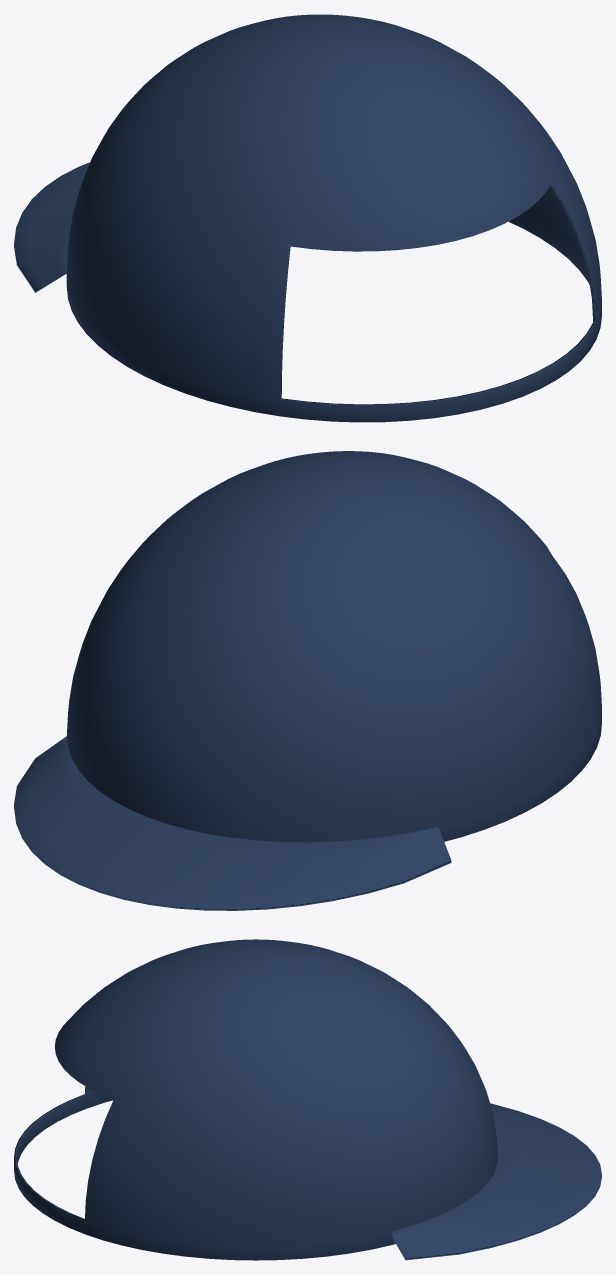
File: baseball-cap.glb
3 views of the same model, one above another, from view 1: azimuth 30°, elevation 25°; view 2: azimuth 150°, elevation 25°; view 3: azimuth 270°, elevation 25° (orthographic). The views are drawn at different scales.
Visible parts, largest first — view 1: CapShellRearOpeningBand, CurvedFrontBrim; view 2: CapShellRearOpeningBand, CurvedFrontBrim; view 3: CapShellRearOpeningBand, CurvedFrontBrim.
Boxes of the visible parts, x1=… form: CapShellRearOpeningBand: x1=66, y1=14, x2=601, y2=422; CurvedFrontBrim: x1=14, y1=162, x2=89, y2=292; CapShellRearOpeningBand: x1=67, y1=451, x2=601, y2=842; CurvedFrontBrim: x1=14, y1=736, x2=451, y2=910; CapShellRearOpeningBand: x1=14, y1=939, x2=497, y2=1260; CurvedFrontBrim: x1=390, y1=1103, x2=601, y2=1260.
Bounding box in the file's own units: 0.224 × 0.1275 × 0.311.
